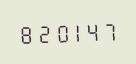eight: (17, 21, 33, 45)
four: (86, 19, 102, 42)
one: (69, 19, 85, 43)
seven: (103, 18, 119, 42)
two: (34, 21, 50, 44)
zero: (52, 20, 68, 43)
